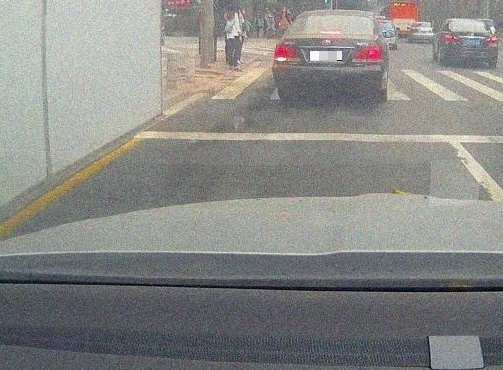L_light: (273, 44, 299, 60), (443, 34, 459, 41)
R_light: (351, 44, 382, 62), (485, 36, 497, 43)
T_light: (320, 31, 340, 34), (469, 20, 477, 22)
day-no: (272, 10, 384, 102), (442, 18, 498, 68)
plate_1: (310, 51, 342, 61)
